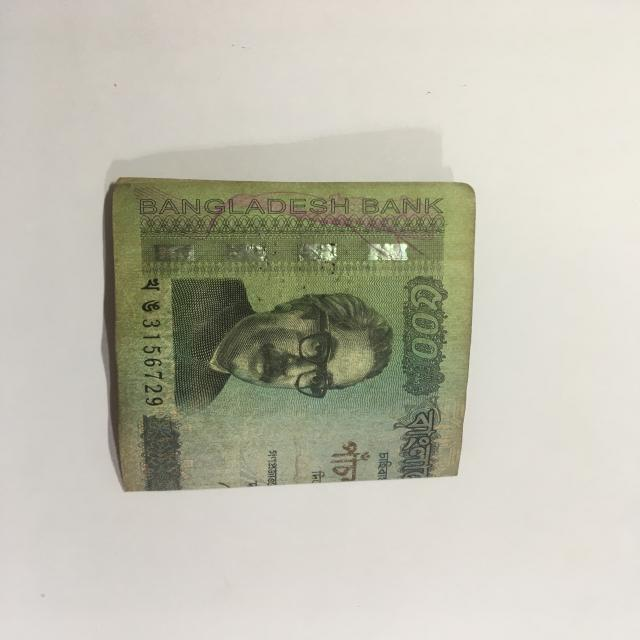Taka: (103, 168, 466, 488)
